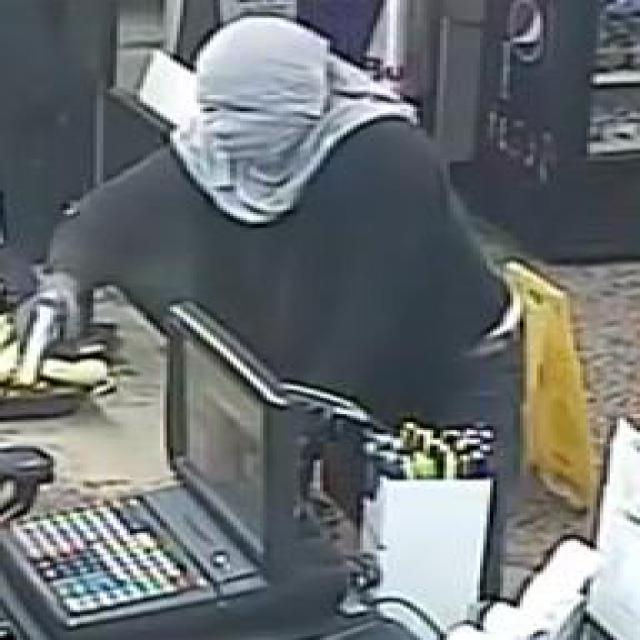gun: (3, 284, 87, 388)
